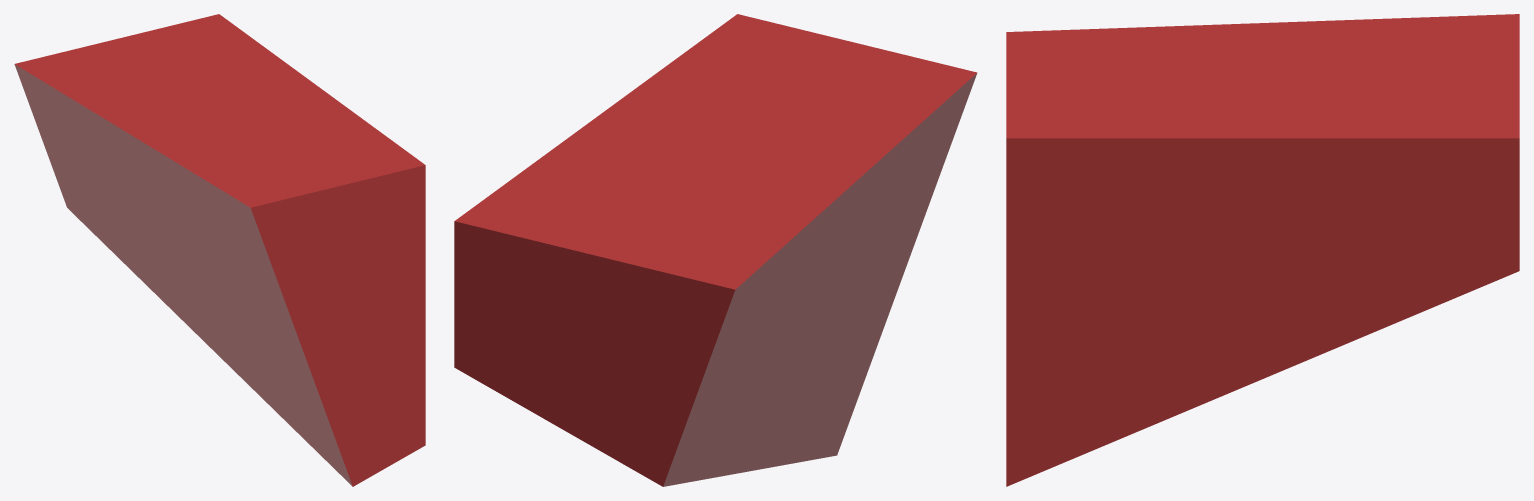
File: right.fbx
The picture shows the model from 3 angles, left to right: view 1: azimuth 30°, elevation 25°; view 2: azimuth 150°, elevation 25°; view 3: azimuth 270°, elevation 25°; orthographic projection. The views are drawn at different scales.
Visible parts, largest first — view 1: right; view 2: right; view 3: right.
Boxes of the visible parts, x1,y1,x2,y2 form: right: (14,14,425,486); right: (454,14,977,486); right: (1006,14,1519,486).
Bounding box in the file's own units: 33.43 × 47.43 × 58.33.
